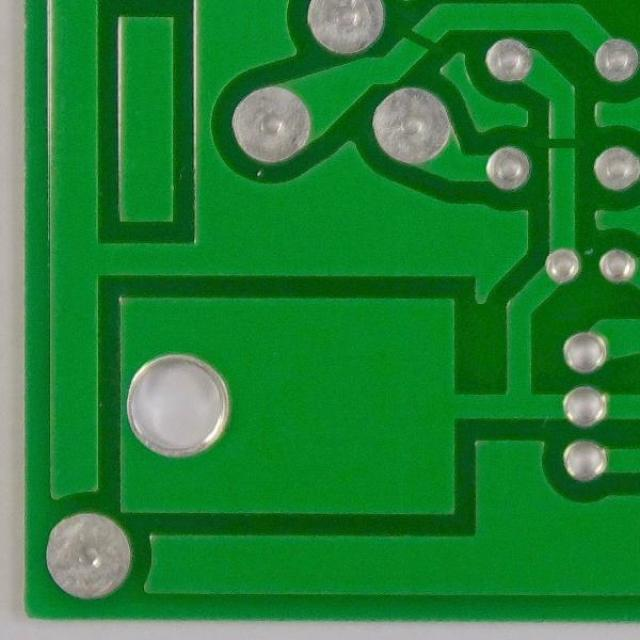open_circuit: (401, 22, 443, 61), (538, 127, 586, 156)
